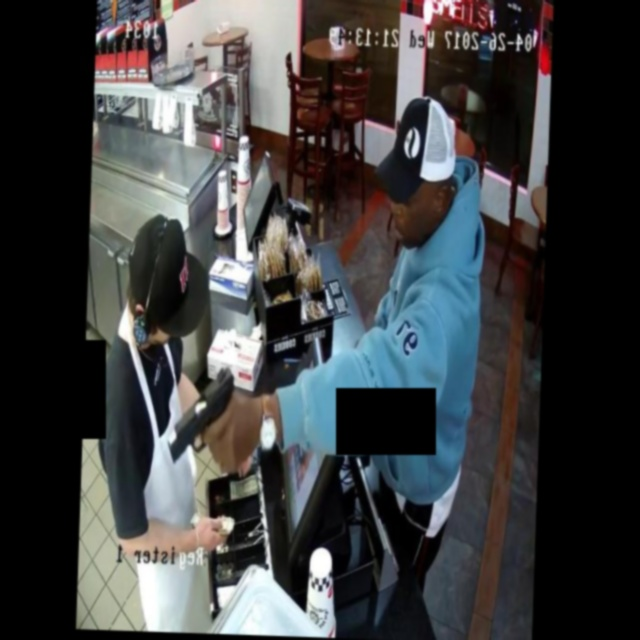gun: (155, 354, 249, 480)
